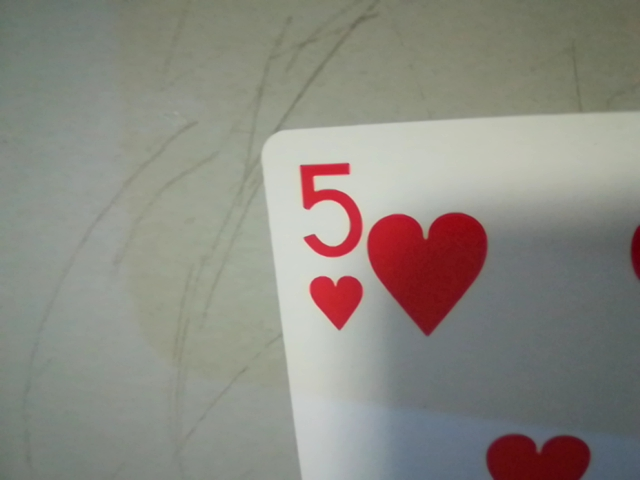hx 5: (287, 147, 371, 336)
